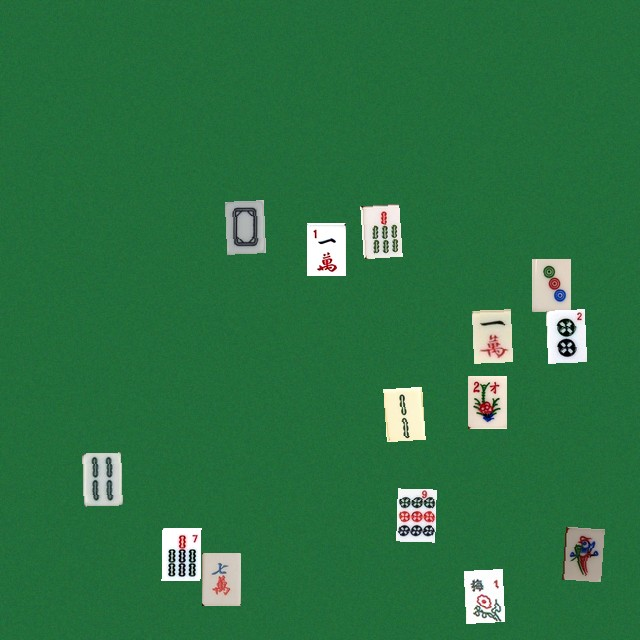tile: (360, 203, 399, 256), (224, 200, 263, 253), (383, 386, 422, 439), (161, 527, 200, 580), (463, 569, 502, 622), (306, 222, 345, 275), (562, 526, 601, 579), (201, 552, 240, 605), (531, 258, 570, 311), (82, 452, 121, 505), (545, 309, 584, 362), (471, 309, 510, 362), (396, 488, 435, 541), (467, 375, 506, 428)
